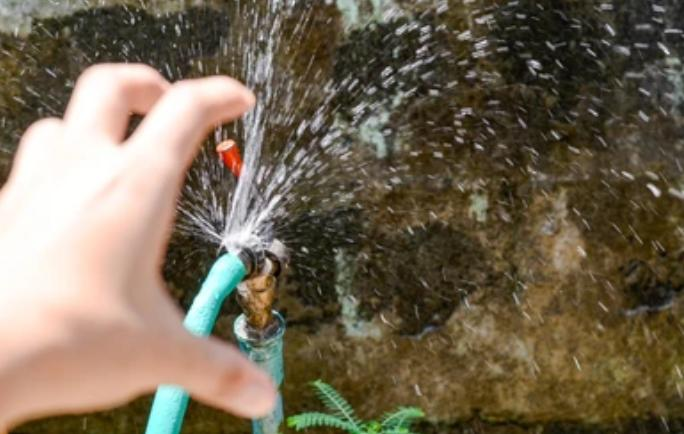pipe burst: (169, 2, 472, 263)
